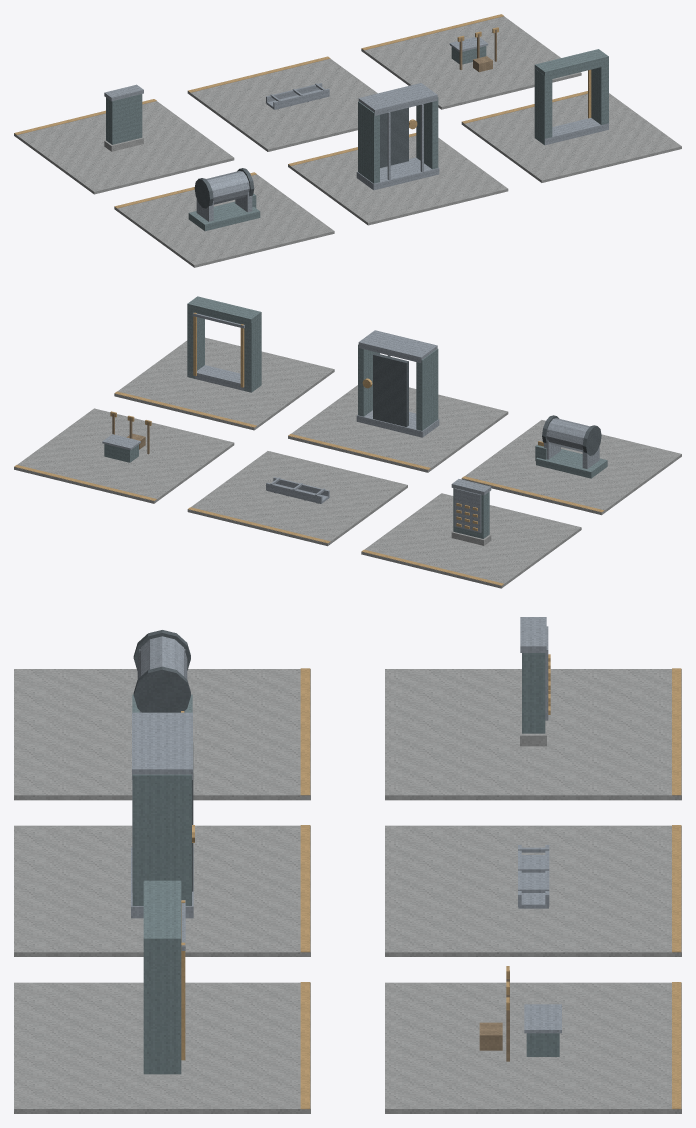
The model's file is level_blockout_kit_wld_18_p02.glb.
The picture shows the model from 3 angles, top to bottom: view 1: azimuth 30°, elevation 25°; view 2: azimuth 150°, elevation 25°; view 3: azimuth 270°, elevation 25°; orthographic projection. The views are drawn at different scales.
Parts seen in each view (by area): view 1: level_blockout_kit_wld_18_p02; view 2: level_blockout_kit_wld_18_p02; view 3: level_blockout_kit_wld_18_p02.
Boxes of the visible parts, x1,y1,x2,y2 form: level_blockout_kit_wld_18_p02: (14,14,681,267); level_blockout_kit_wld_18_p02: (14,296,681,588); level_blockout_kit_wld_18_p02: (14,617,681,1113).
Bounding box in the file's own units: 19.65 × 3.18 × 12.6.
6 materials, 6 textured.
